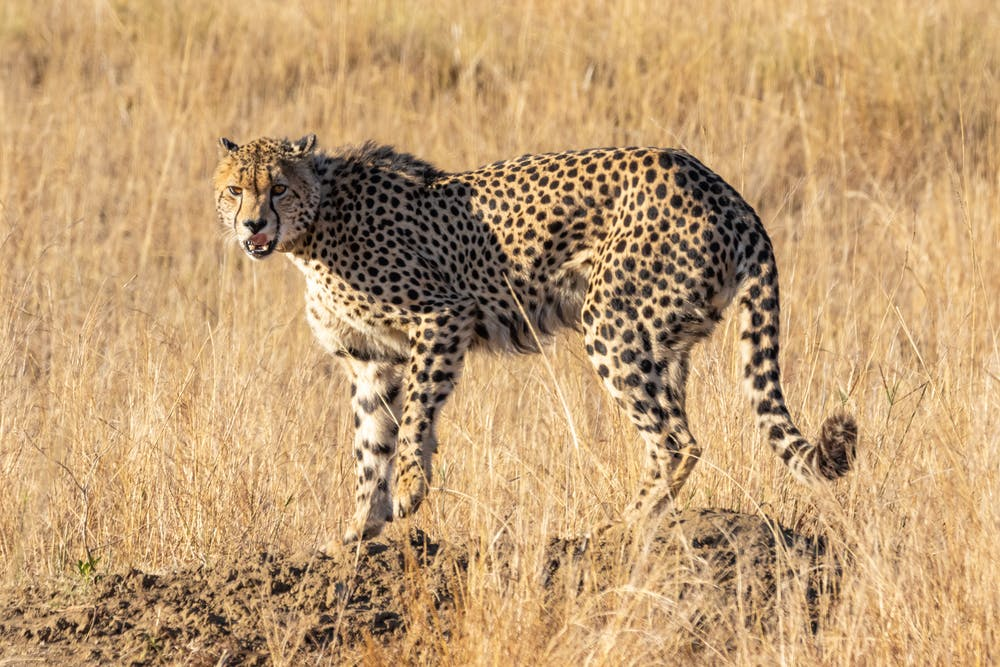cheetah: (205, 127, 335, 271)
